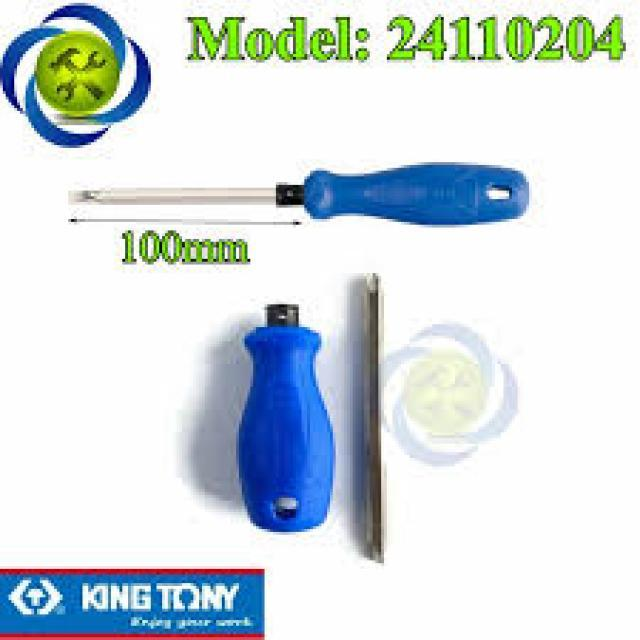screwdriver: (52, 158, 540, 238)
